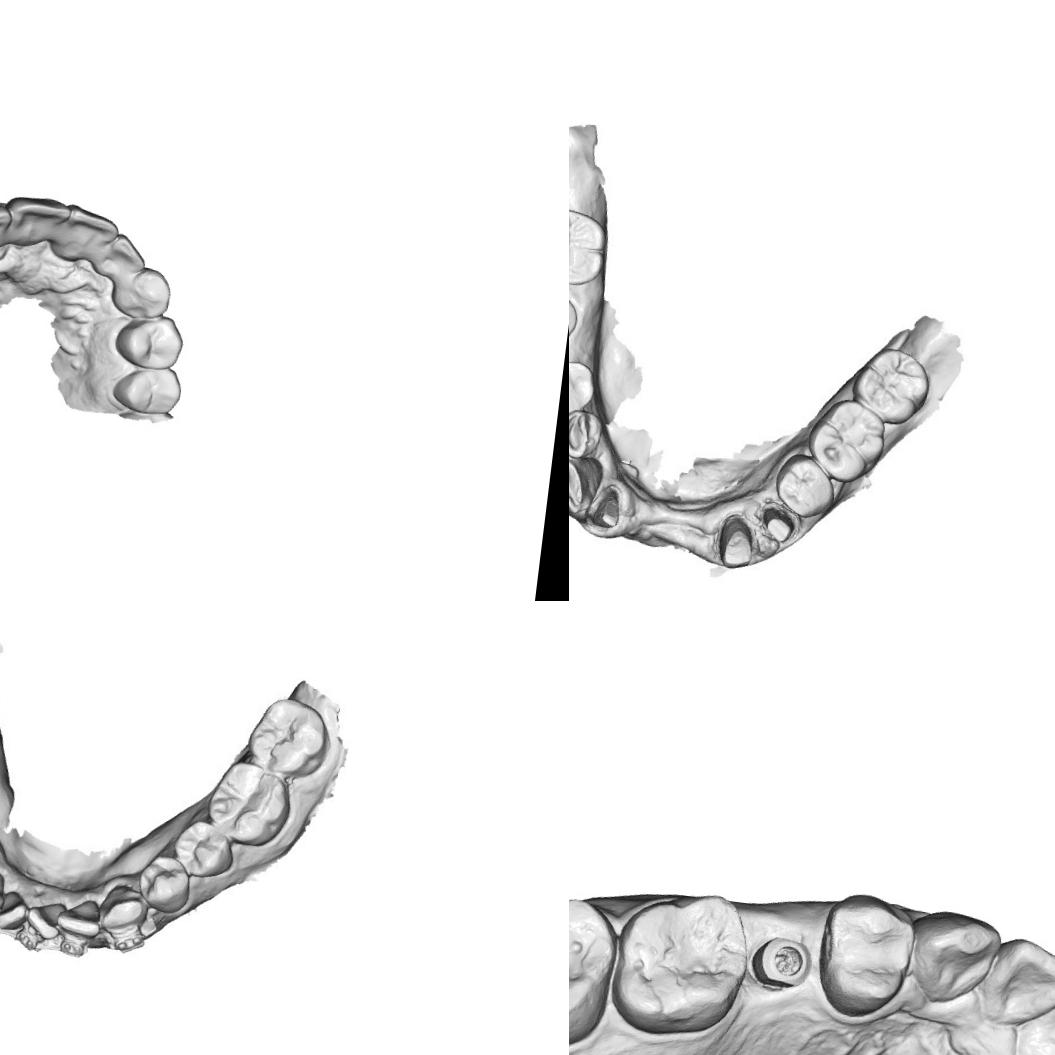canine: (905, 906, 1004, 1012), (109, 263, 174, 322), (94, 880, 149, 936), (569, 453, 596, 516)
crown: (716, 511, 760, 568), (758, 500, 803, 550), (589, 483, 630, 532)
implant: (752, 928, 819, 1000), (569, 288, 583, 346)
incisor: (977, 931, 1055, 1035), (52, 200, 122, 268), (2, 192, 72, 248), (1019, 973, 1055, 1055), (54, 894, 106, 940), (21, 896, 70, 943), (104, 230, 150, 278), (0, 887, 30, 934), (0, 200, 14, 257)
molar: (606, 883, 758, 1047), (202, 756, 297, 852), (569, 887, 623, 1054), (242, 692, 336, 782), (804, 397, 890, 482), (854, 346, 929, 423), (569, 203, 610, 291)
premolar: (806, 887, 920, 1025), (112, 310, 188, 373), (170, 816, 238, 884), (132, 851, 194, 917), (778, 456, 837, 524), (109, 364, 184, 416), (569, 402, 605, 463), (569, 354, 596, 415)
